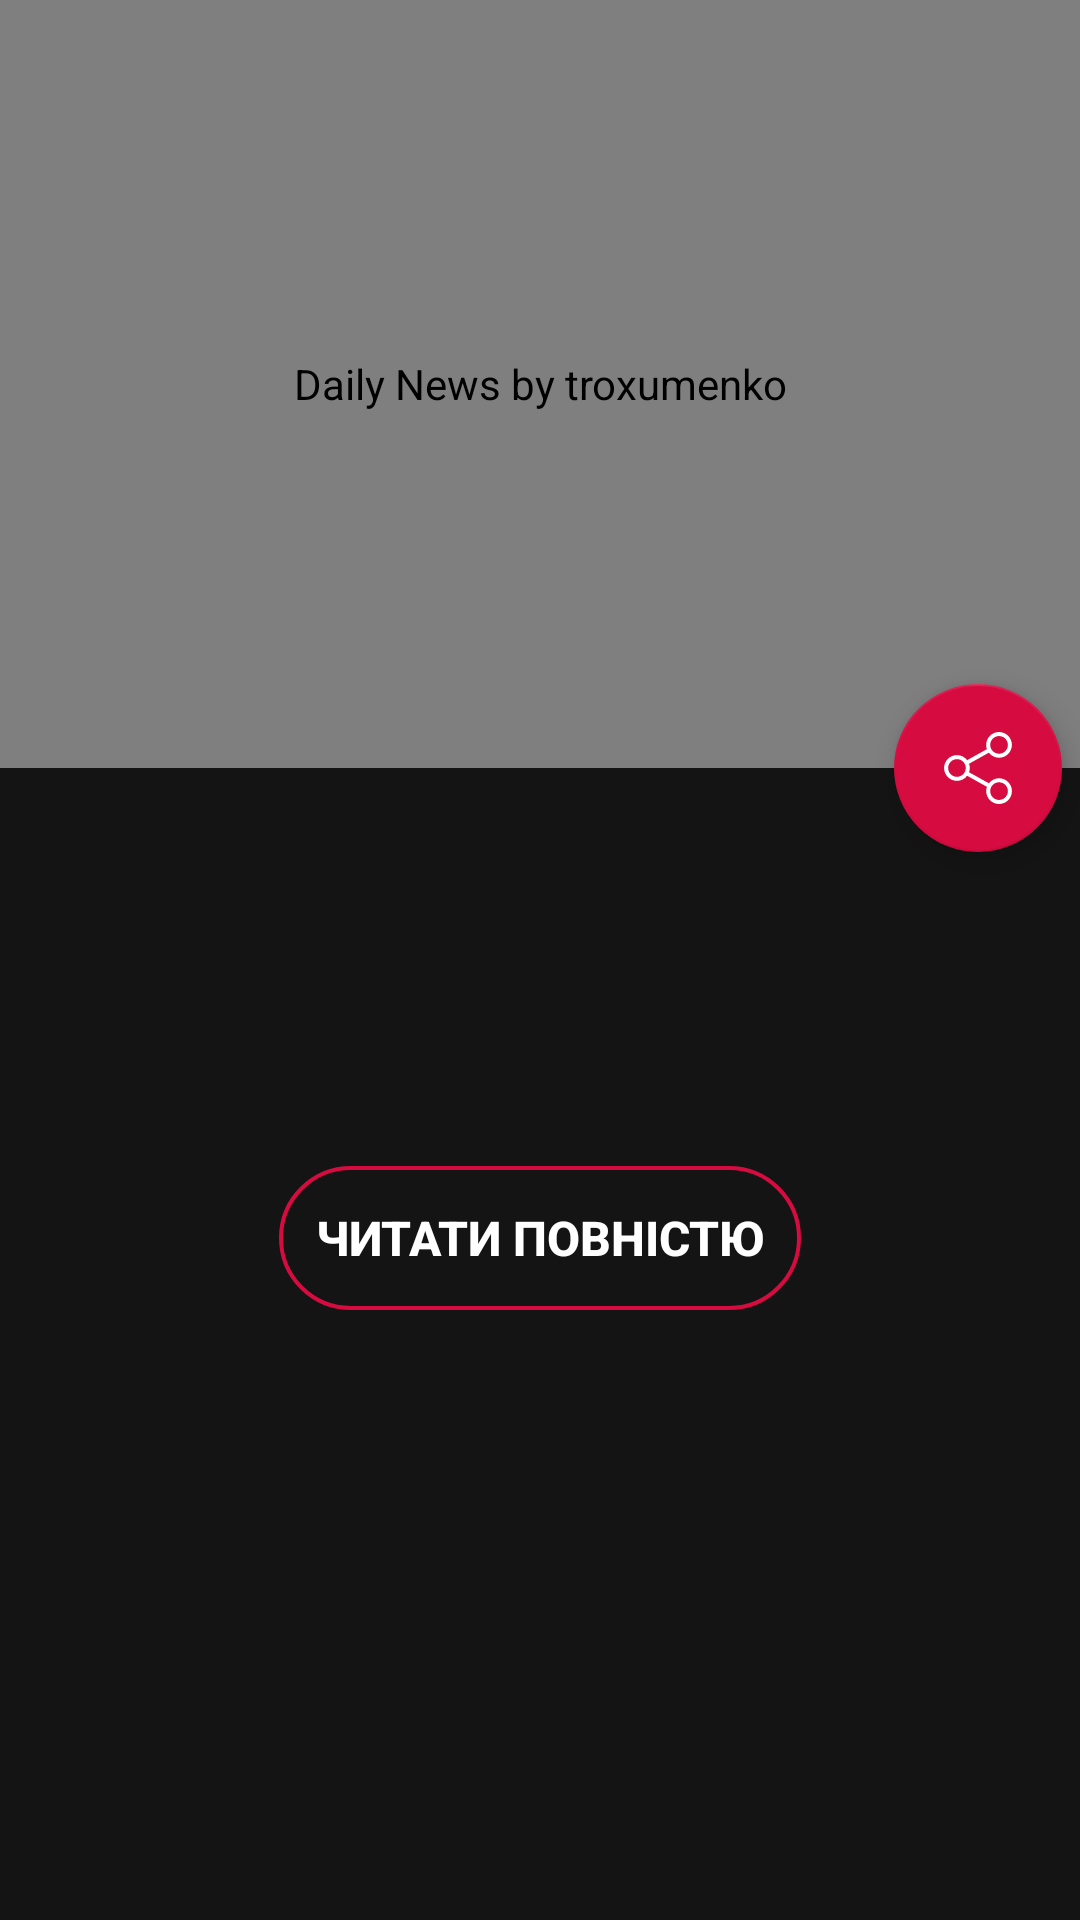

Screen size 1080×1920. Icon name, then its center in pixels as (x=x, y=y):
share: (x=978, y=768)
